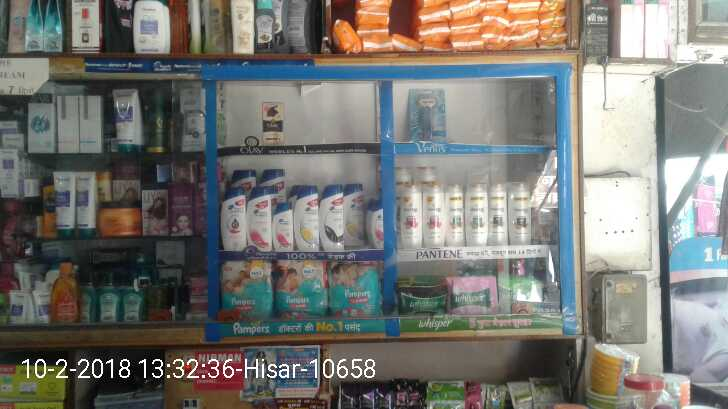venus: (407, 90, 446, 139)
